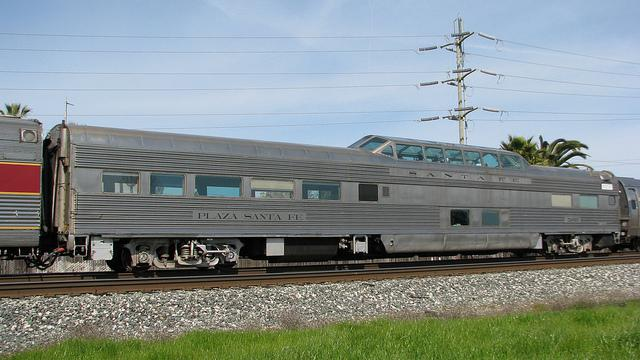Train: (0, 115, 640, 280)
